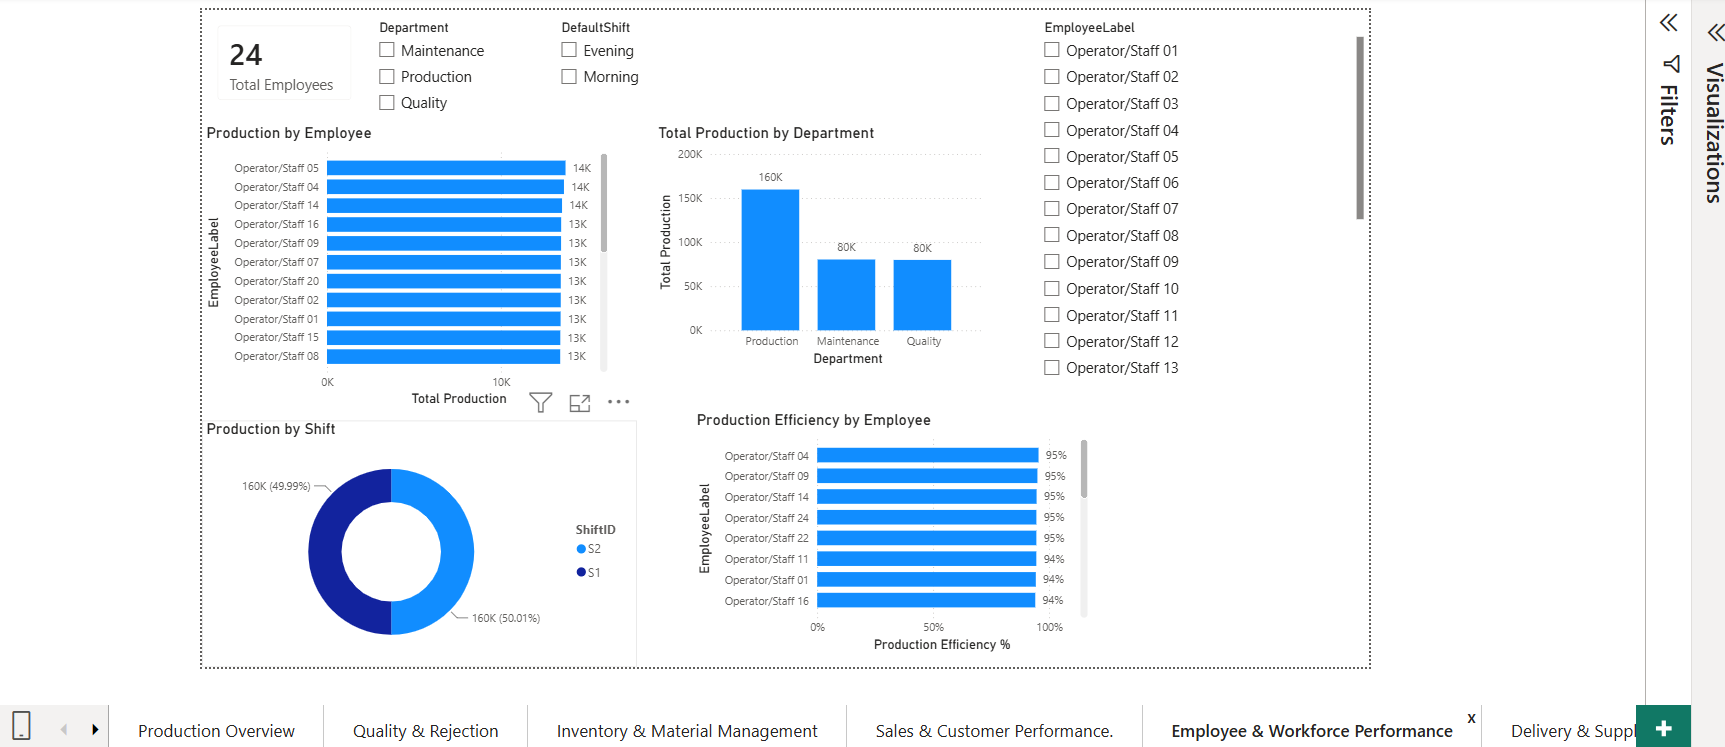

The page's visual inventory and layout, read from the dashboard file:
{"tool":"powerbi","page":{"name":"Employee & Workforce Performance","canvas":[1280,720],"ordinal":4},"visuals":[{"type":"cardVisual","fields":{"Data":["tblDimEmployee.Total Employees"]},"box":[0,0,181.1,116.3],"z":0},{"type":"clusteredBarChart","title":"Production by Employee","fields":{"Category":["tblDimEmployee.EmployeeLabel"],"Y":["tblFactProduction.Total Production"]},"box":[0,125.6,449.7,314.1],"z":1000},{"type":"clusteredColumnChart","fields":{"Category":["tblDimEmployee.Department"],"Y":["tblFactProduction.Total Production"]},"box":[494.8,125.2,368.1,269.5],"z":2000},{"type":"donutChart","title":"Production by Shift ","fields":{"Category":["tblFactProduction.ShiftID"],"Y":["tblFactProduction.Total Production"]},"box":[0,450.6,477.1,269.5],"z":3000},{"type":"slicer","fields":{"Values":["tblDimEmployee.Department"]},"box":[181.1,5.9,169.3,119.3],"z":4000},{"type":"slicer","fields":{"Values":["tblDimEmployee.DefaultShift"]},"box":[381.4,5.9,190,103.1],"z":5000},{"type":"slicer","fields":{"Values":["tblDimEmployee.EmployeeLabel"]},"box":[911.5,5.9,368.1,402],"z":6000},{"type":"clusteredBarChart","title":"Production Efficiency by Employee","fields":{"Category":["tblDimEmployee.EmployeeLabel"],"Y":["tblFactProduction.Production Efficiency %"]},"box":[537.5,438.8,438.8,269.5],"z":7000}]}

Visuals, with their boxes on the page's 1280x720 design canvas (x1, y1, x2, y2). These are canvas units, not pixel positions in the 1725x747 screenshot, which may show the page scaled, cropped or inside an application window:
cardVisual - tblDimEmployee.Total Employees: crop(0, 0, 181, 116)
"Production by Employee" clusteredBarChart: crop(0, 126, 450, 440)
clusteredColumnChart - tblDimEmployee.Department x tblFactProduction.Total Production: crop(495, 125, 863, 395)
"Production by Shift " donutChart: crop(0, 451, 477, 720)
slicer - tblDimEmployee.Department: crop(181, 6, 350, 125)
slicer - tblDimEmployee.DefaultShift: crop(381, 6, 571, 109)
slicer - tblDimEmployee.EmployeeLabel: crop(912, 6, 1280, 408)
"Production Efficiency by Employee" clusteredBarChart: crop(538, 439, 976, 708)
